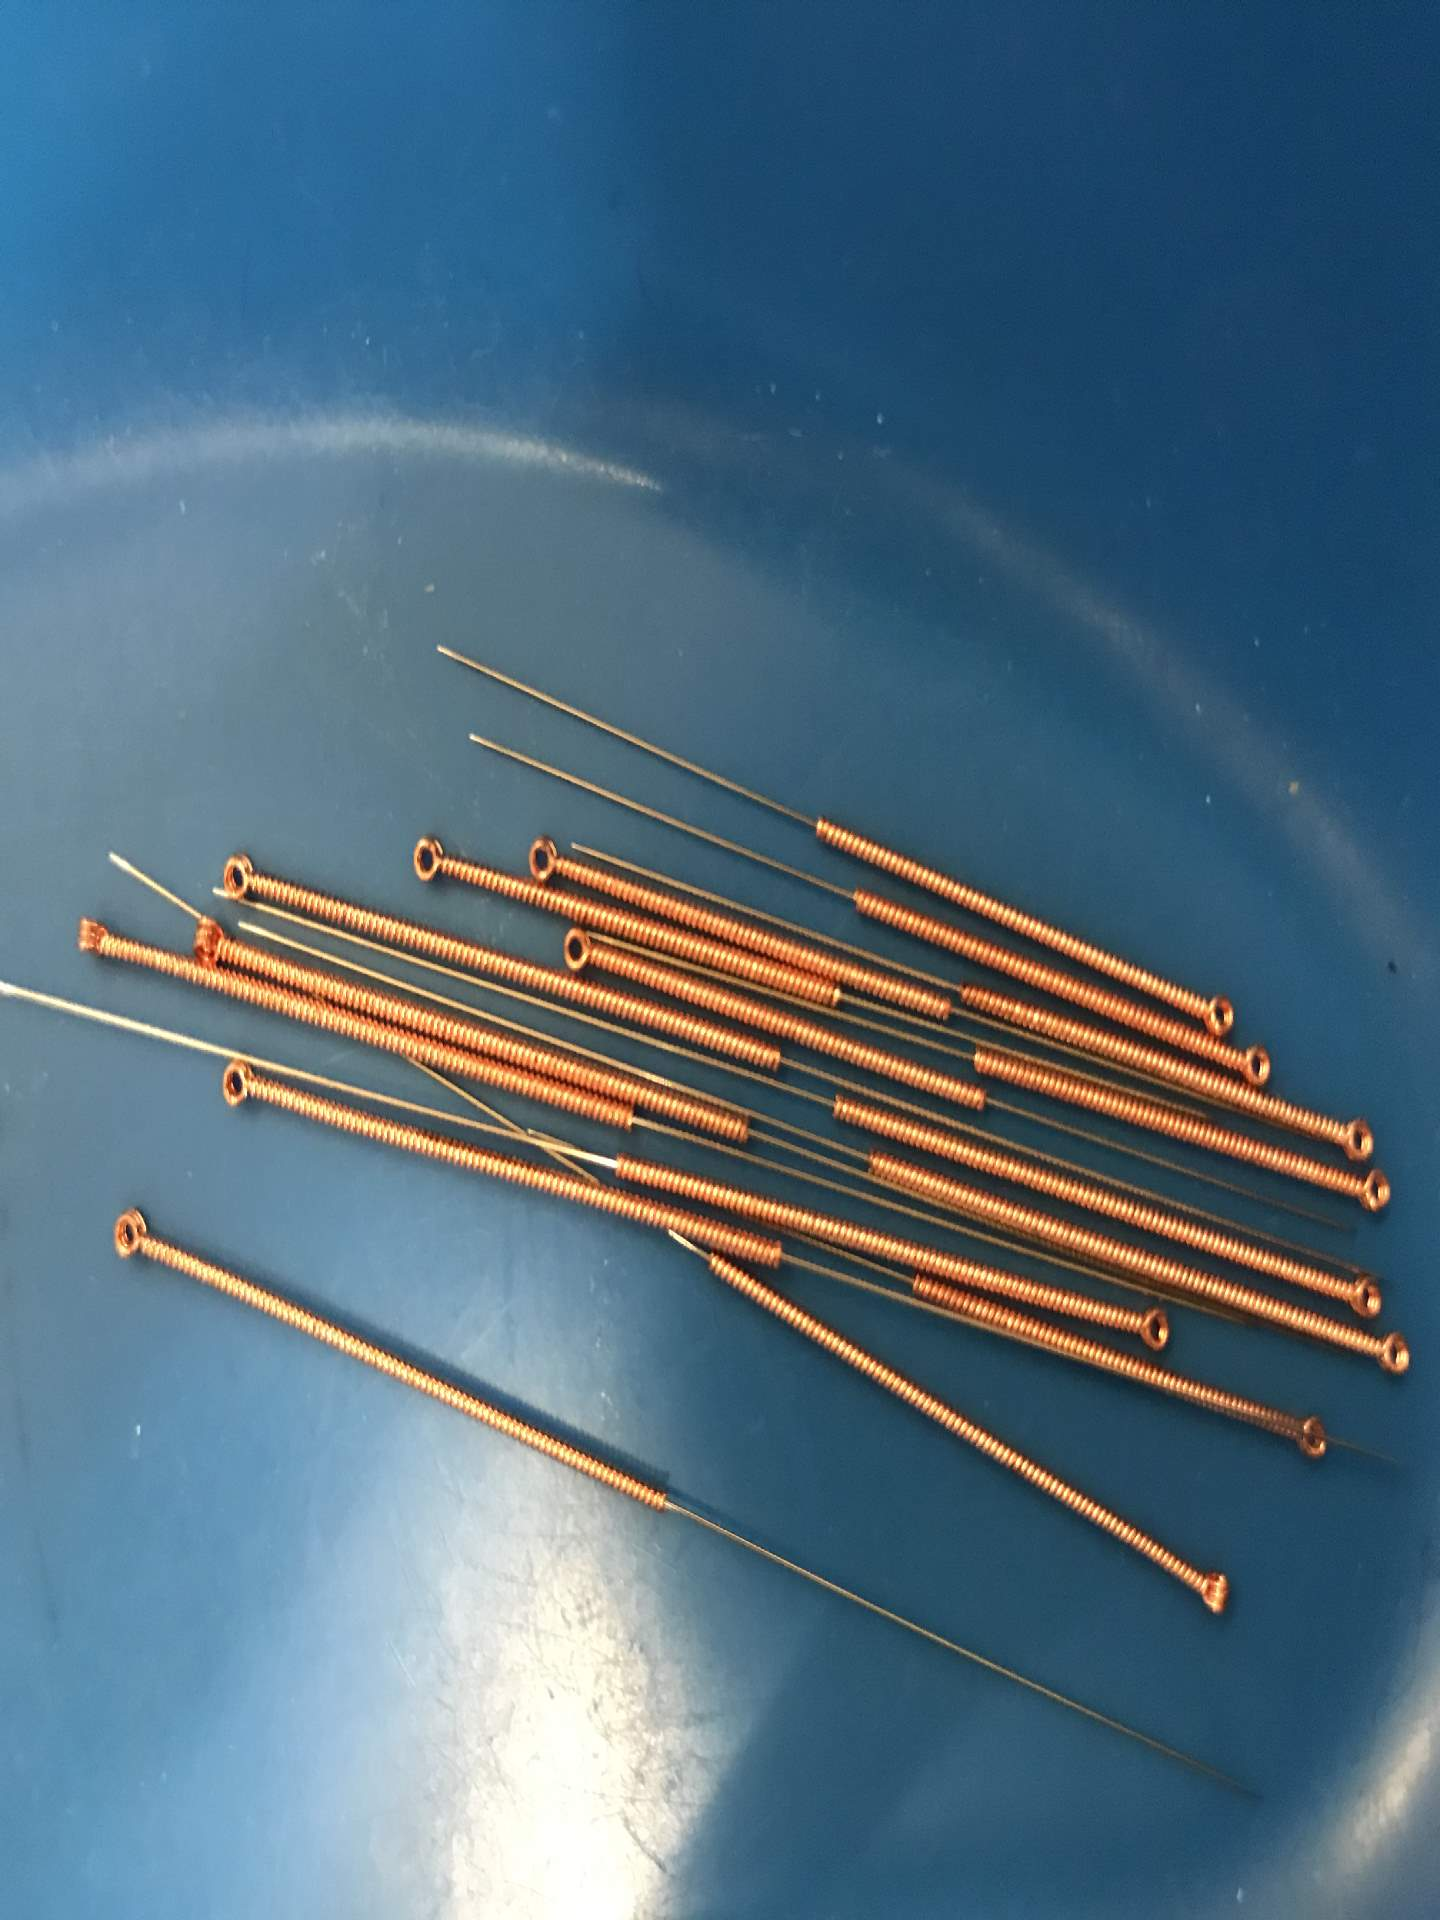needle: (92, 1194, 174, 1276), (198, 839, 286, 915), (1171, 1553, 1249, 1631), (390, 819, 470, 897), (1268, 1398, 1348, 1474), (203, 1048, 278, 1123), (54, 901, 130, 974), (1112, 1293, 1187, 1361), (1325, 1259, 1396, 1329), (1333, 1163, 1404, 1225), (1327, 1098, 1389, 1169), (1354, 1329, 1423, 1386), (182, 907, 244, 971), (517, 824, 573, 890), (549, 916, 607, 980), (1186, 980, 1246, 1039), (1224, 1036, 1283, 1092)
